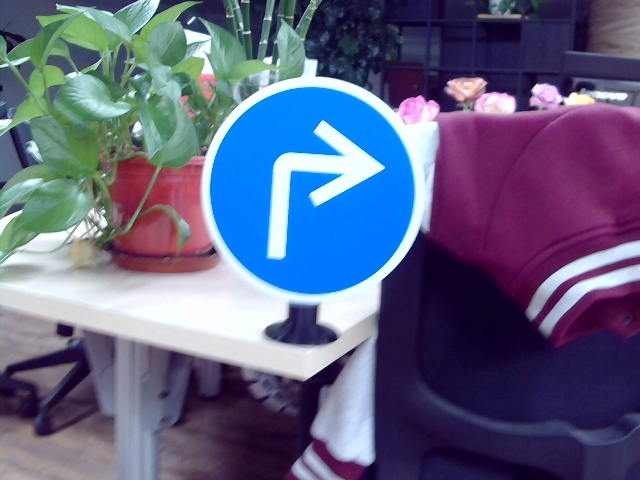turn_right: (256, 122, 385, 261)
